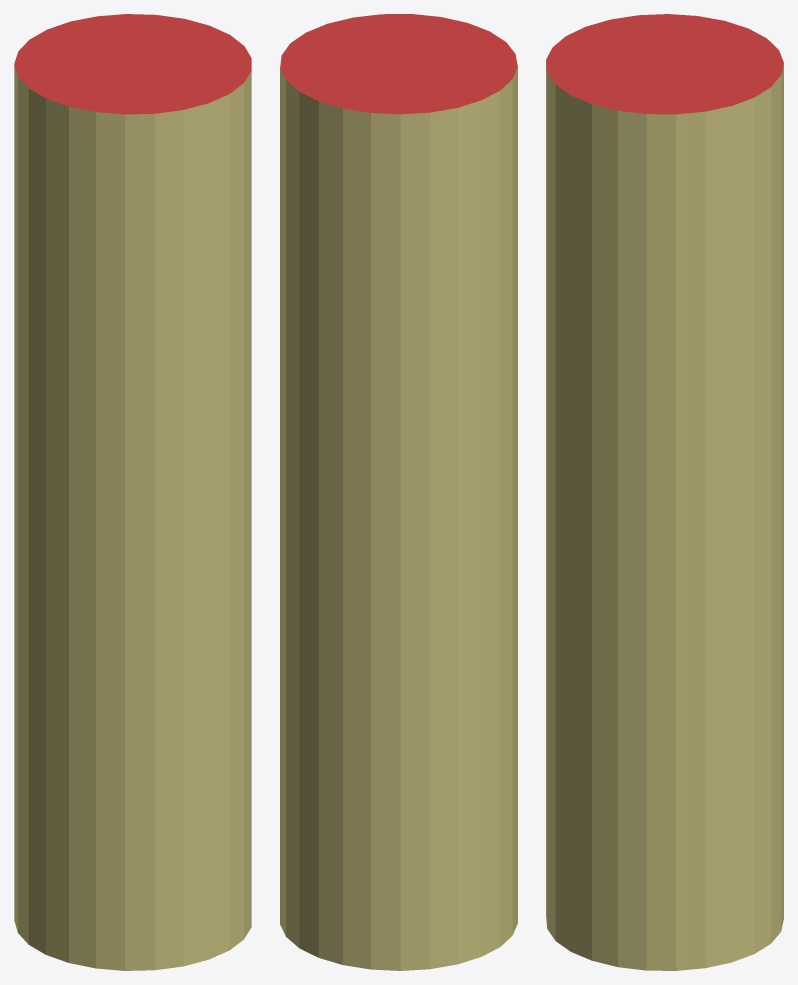
3 views of the same model, side by side, from view 1: azimuth 30°, elevation 25°; view 2: azimuth 150°, elevation 25°; view 3: azimuth 270°, elevation 25° (orthographic).
Size of the model in its own units: 1.94 by 1.94 by 7.71.
